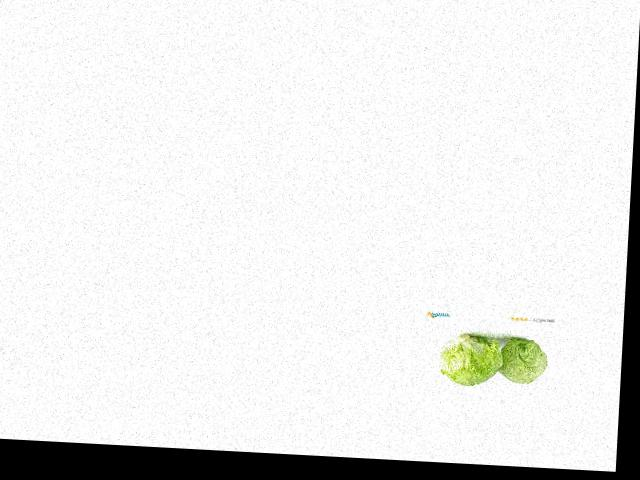lettuce: (483, 326, 551, 385)
